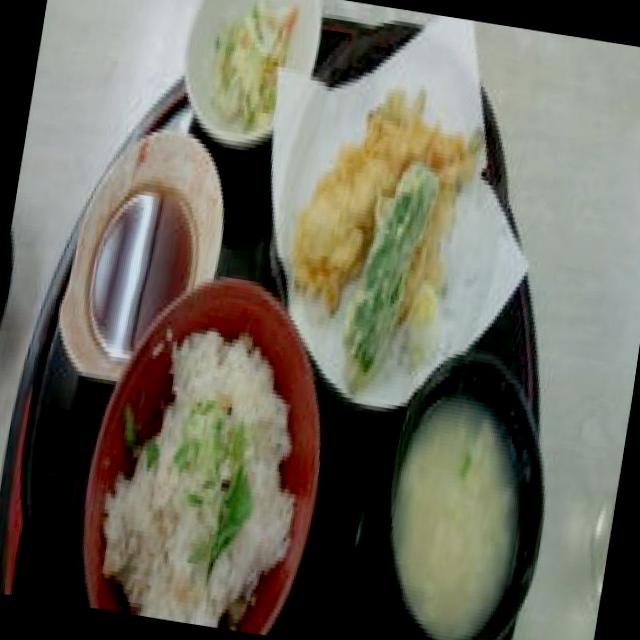Rice: (108, 314, 313, 629)
